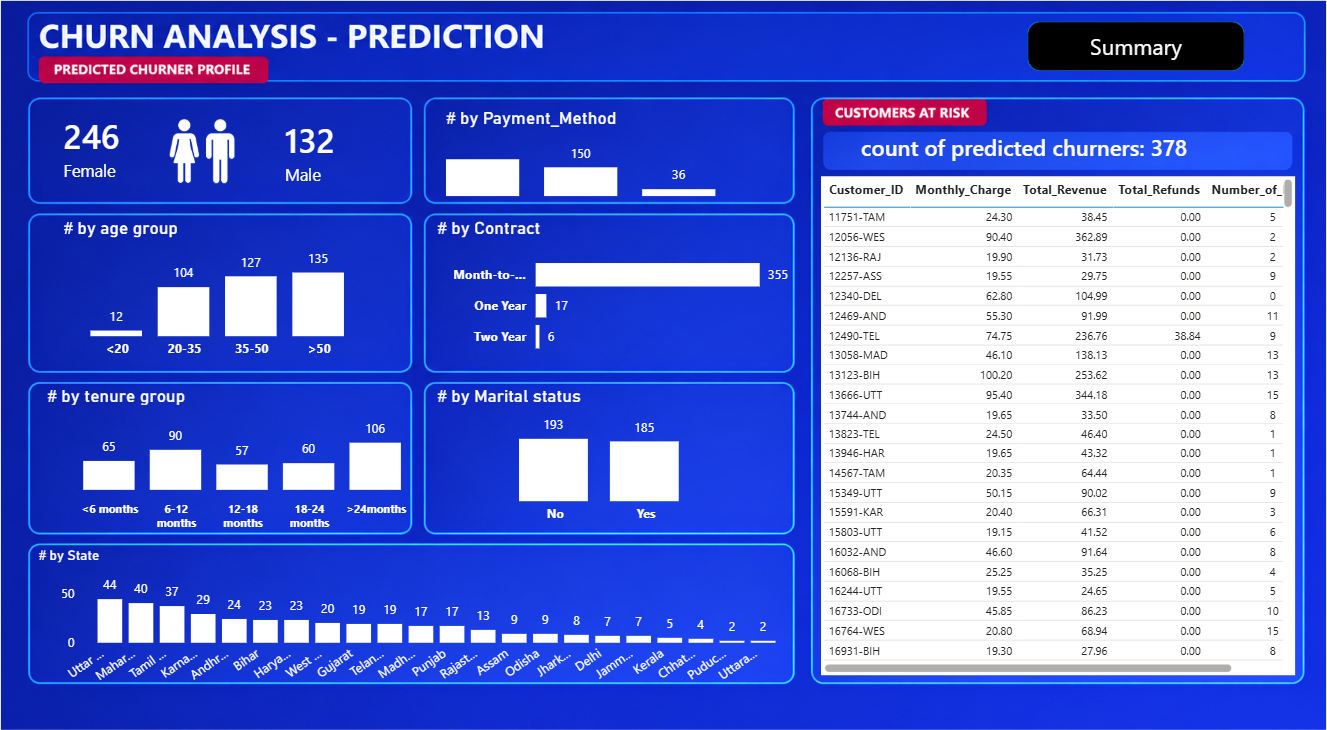

The page's visual inventory and layout, read from the dashboard file:
{"tool":"powerbi","page":{"name":"churn prediction","canvas":[1280,720],"ordinal":2},"visuals":[{"type":"tableEx","fields":{"Values":["prediction_data.Customer_ID","prediction_data.Monthly_Charge","prediction_data.Total_Revenue","prediction_data.Total_Refunds","prediction_data.Number_of_Referrals"]},"box":[791,174.9,457.2,481.4],"z":0},{"type":"cardVisual","fields":{"Data":["tbl_measures.Title predicted churner"]},"box":[801.1,103.8,456,85.7],"z":1000},{"type":"cardVisual","fields":{"Data":["CountNonNull(predictions.Gender)"]},"box":[31.4,96.5,176.1,101.3],"z":2000},{"type":"cardVisual","fields":{"Data":["CountNonNull(predictions.Gender)"]},"box":[244.9,100.1,171.3,101.3],"z":3000},{"type":"clusteredColumnChart","fields":{"Category":["mapping_agregrp.age group"],"Y":["CountNonNull(predictions.Customer_ID)"]},"box":[55.5,214.7,308.8,144.8],"z":4000},{"type":"clusteredColumnChart","fields":{"Y":["CountNonNull(predictions.Customer_ID)"],"Category":["predictions.Married"]},"box":[416.2,376.4,325.7,142.4],"z":5000},{"type":"clusteredColumnChart","fields":{"Y":["CountNonNull(predictions.Customer_ID)"],"Category":["mapping_tenuregrp.tenure group"]},"box":[39.8,376.4,378.8,148.4],"z":6000},{"type":"clusteredColumnChart","fields":{"Y":["CountNonNull(predictions.Customer_ID)"],"Category":["predictions.Payment_Method"]},"box":[424.7,108.6,275.1,91.7],"z":7000},{"type":"clusteredBarChart","fields":{"Category":["predictions.Contract"],"Y":["CountNonNull(predictions.Customer_ID)"]},"box":[416.2,214.7,348.7,144.8],"z":8000},{"type":"clusteredColumnChart","fields":{"Category":["predictions.State"],"Y":["CountNonNull(predictions.Customer_ID)"]},"box":[31.4,533.2,733.5,141.2],"z":9000},{"type":"shape","box":[990.5,25.3,209.9,48.3],"z":10000},{"type":"image","box":[133.9,111,120.6,78.4],"z":11000}]}

Visuals, with their boxes in screenshot pixels (x1, y1, x2, y2), scaled from the page's 1280x720 canvas onto the 1327x730 screenshot:
tableEx - prediction_data.Customer_ID x prediction_data.Monthly_Charge: x1=820, y1=177, x2=1294, y2=665
cardVisual - tbl_measures.Title predicted churner: x1=831, y1=105, x2=1303, y2=192
cardVisual - CountNonNull(predictions.Gender): x1=33, y1=98, x2=215, y2=201
cardVisual - CountNonNull(predictions.Gender): x1=254, y1=101, x2=431, y2=204
clusteredColumnChart - mapping_agregrp.age group x CountNonNull(predictions.Customer_ID): x1=58, y1=218, x2=378, y2=364
clusteredColumnChart - CountNonNull(predictions.Customer_ID) x predictions.Married: x1=431, y1=382, x2=769, y2=526
clusteredColumnChart - CountNonNull(predictions.Customer_ID) x mapping_tenuregrp.tenure group: x1=41, y1=382, x2=434, y2=532
clusteredColumnChart - CountNonNull(predictions.Customer_ID) x predictions.Payment_Method: x1=440, y1=110, x2=725, y2=203
clusteredBarChart - predictions.Contract x CountNonNull(predictions.Customer_ID): x1=431, y1=218, x2=793, y2=364
clusteredColumnChart - predictions.State x CountNonNull(predictions.Customer_ID): x1=33, y1=541, x2=793, y2=684
shape: x1=1027, y1=26, x2=1244, y2=75
image: x1=139, y1=113, x2=264, y2=192
